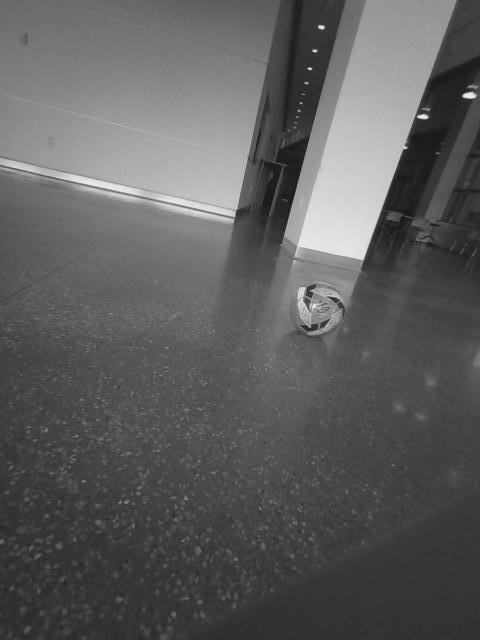ball: (287, 279, 349, 340)
